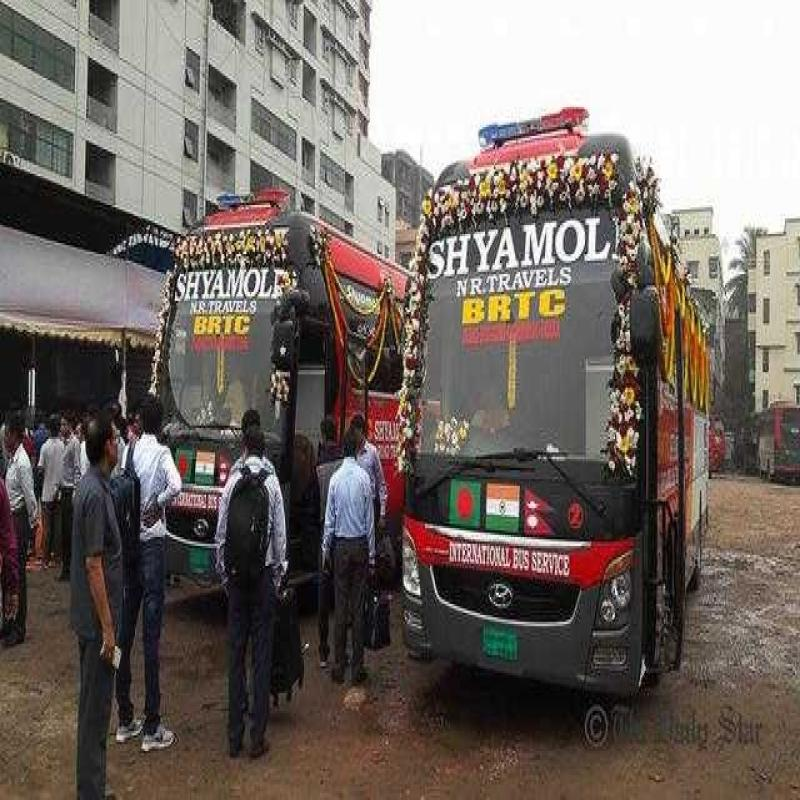bus: (406, 114, 693, 740), (130, 139, 327, 604)
